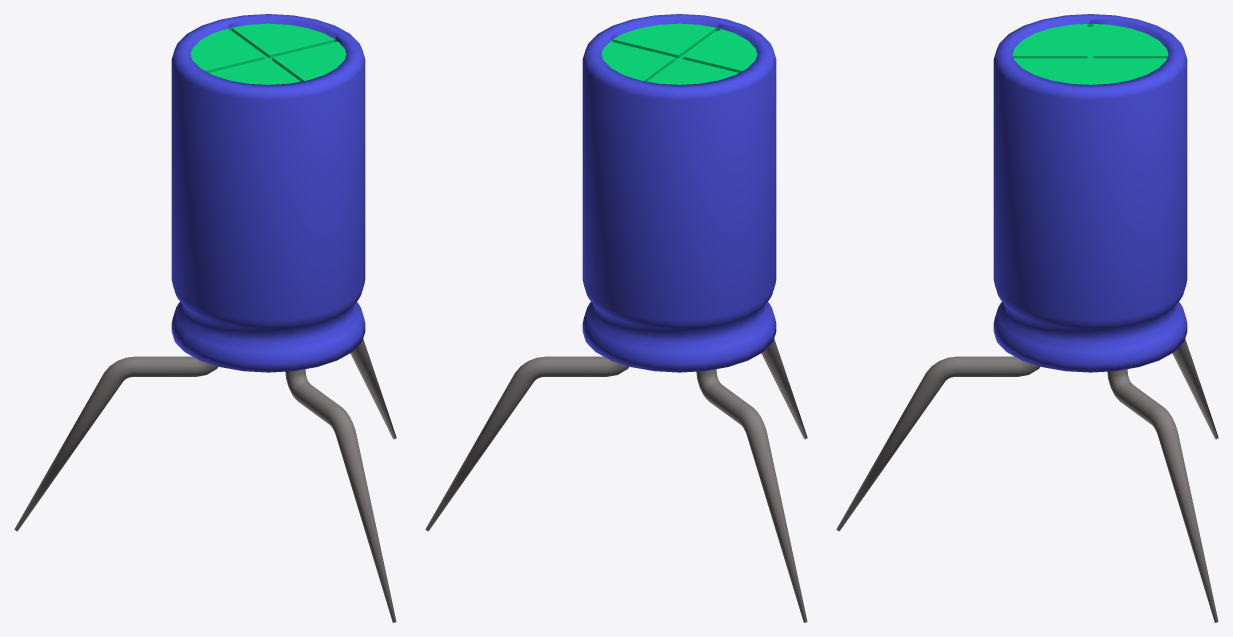
Rendered from capacitor.fbx.
The picture shows the model from 3 angles, left to right: view 1: azimuth 30°, elevation 25°; view 2: azimuth 150°, elevation 25°; view 3: azimuth 270°, elevation 25°; orthographic projection.
Parts seen in each view (by area): view 1: Cylinder, Cylinder.003, Cylinder.001, Cylinder.002; view 2: Cylinder, Cylinder.002, Cylinder.003, Cylinder.001; view 3: Cylinder, Cylinder.001, Cylinder.002, Cylinder.003.
Boxes of the visible parts, x1=… form: Cylinder: x1=171, y1=14, x2=365, y2=372; Cylinder.003: x1=14, y1=356, x2=218, y2=531; Cylinder.001: x1=285, y1=369, x2=396, y2=622; Cylinder.002: x1=350, y1=339, x2=396, y2=439; Cylinder: x1=582, y1=14, x2=776, y2=372; Cylinder.002: x1=425, y1=356, x2=629, y2=531; Cylinder.003: x1=696, y1=369, x2=807, y2=622; Cylinder.001: x1=761, y1=339, x2=807, y2=439; Cylinder: x1=993, y1=14, x2=1187, y2=372; Cylinder.001: x1=836, y1=356, x2=1040, y2=531; Cylinder.002: x1=1107, y1=369, x2=1218, y2=622; Cylinder.003: x1=1172, y1=339, x2=1218, y2=439.
Bounding box in the file's own units: 455 × 546 × 394.
